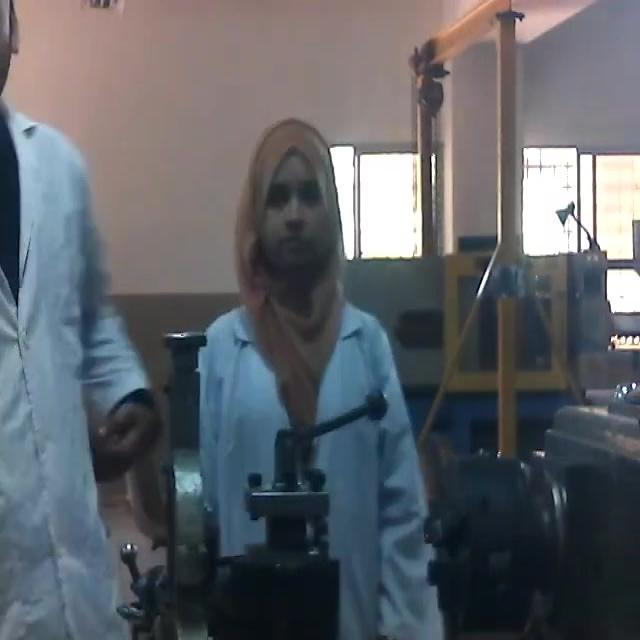labcoat: (192, 294, 448, 640), (0, 98, 152, 636)
